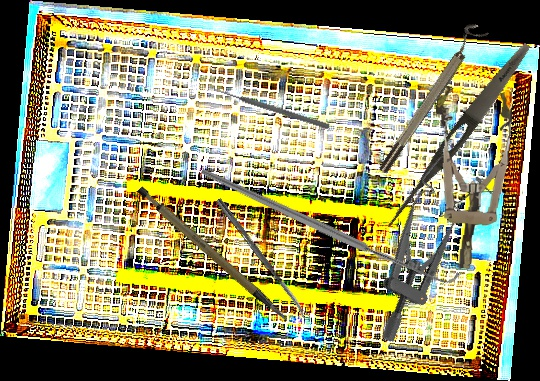Dressing Forceps: (381, 38, 536, 234)
Fixation Ring: (370, 20, 489, 176)
Hook Surgical: (198, 82, 461, 366)
Pusher: (212, 85, 331, 131)
Scalpel Handle: (134, 169, 288, 342)
Speculum: (330, 150, 507, 345), (425, 85, 514, 271)
Surgical Spoon: (214, 197, 311, 322)
